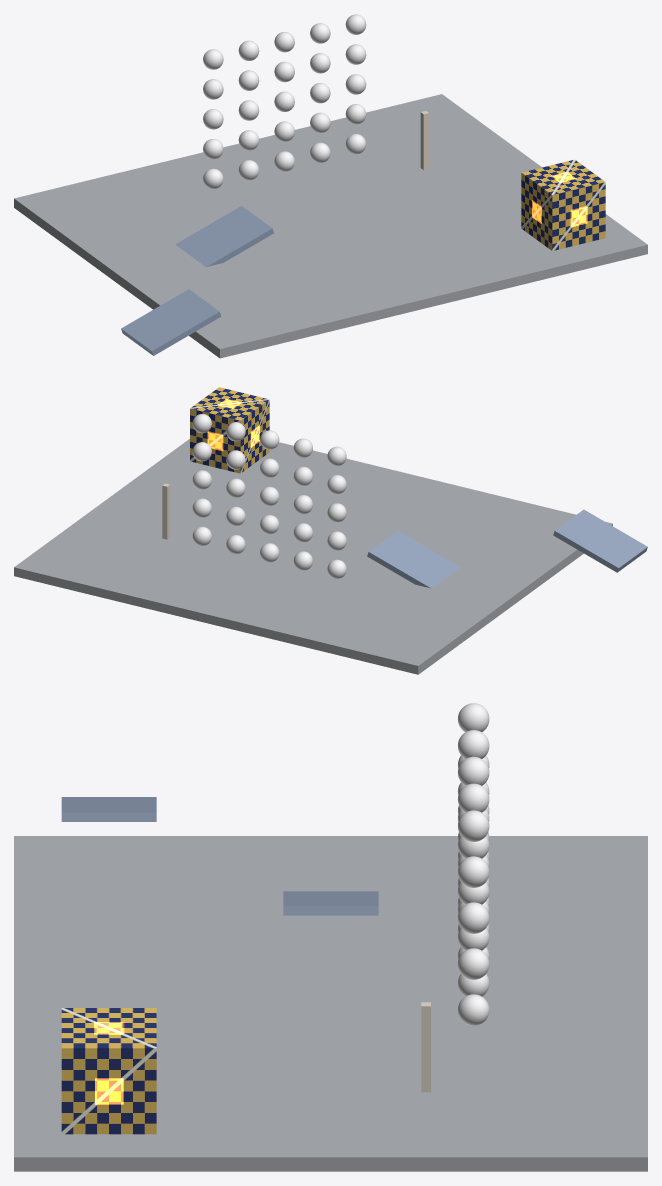
File: m4-visual-baseline.gltf
3 renders of one model, top to bottom at view 1: azimuth 30°, elevation 25°; view 2: azimuth 150°, elevation 25°; view 3: azimuth 270°, elevation 25°, orthographic. The views are drawn at different scales.
Visible parts, largest first — view 1: GroundPlane, TexturedSlab, MirroredSlope, Slope, ThinColumn; view 2: GroundPlane, TexturedSlab, MirroredSlope, Slope, ThinColumn; view 3: GroundPlane, TexturedSlab, Slope, MirroredSlope, ThinColumn, Sphere_c4_r1, Sphere_c4_r0, Sphere_c4_r2, Sphere_c4_r3, Sphere_c4_r4, Sphere_c3_r4, Sphere_c2_r4 (+2 smaller).
Boxes of the visible parts, left/top/right/bottom form: GroundPlane: left=14, top=94, right=647, bottom=358; TexturedSlab: left=521, top=159, right=605, bottom=250; MirroredSlope: left=121, top=289, right=221, bottom=355; Slope: left=175, top=206, right=273, bottom=266; ThinColumn: left=420, top=111, right=429, bottom=170; GroundPlane: left=14, top=439, right=612, bottom=674; TexturedSlab: left=190, top=387, right=269, bottom=473; MirroredSlope: left=553, top=509, right=647, bottom=572; Slope: left=367, top=530, right=460, bottom=588; ThinColumn: left=162, top=483, right=170, bottom=539; GroundPlane: left=14, top=836, right=647, bottom=1171; TexturedSlab: left=61, top=1008, right=156, bottom=1134; Slope: left=283, top=891, right=378, bottom=915; MirroredSlope: left=61, top=797, right=156, bottom=821; ThinColumn: left=421, top=1002, right=430, bottom=1092; Sphere_c4_r1: left=458, top=948, right=489, bottom=979; Sphere_c4_r0: left=458, top=994, right=489, bottom=1025; Sphere_c4_r2: left=458, top=902, right=489, bottom=933; Sphere_c4_r3: left=458, top=856, right=489, bottom=887; Sphere_c4_r4: left=458, top=810, right=489, bottom=841; Sphere_c3_r4: left=457, top=783, right=489, bottom=812; Sphere_c2_r4: left=457, top=756, right=489, bottom=785.
Bounding box in the file's own units: 26.95 × 8.8 × 20.
29 materials, 1 textured.
